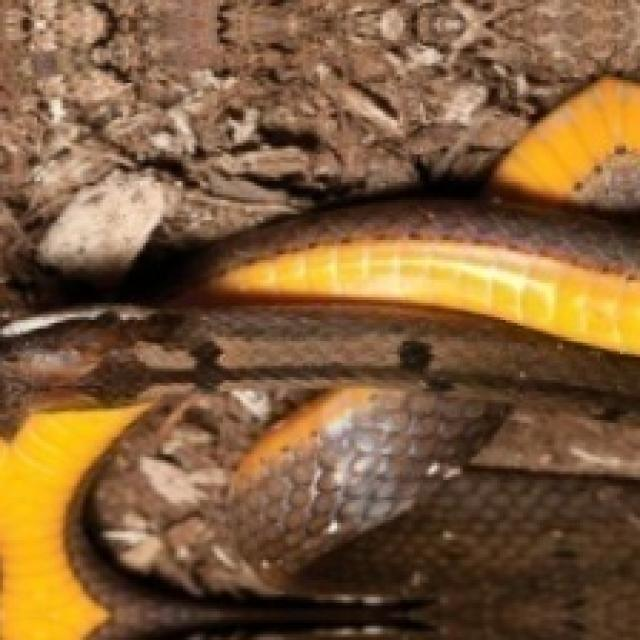philippine stripe-lipped: (0, 77, 637, 637), (120, 454, 331, 600), (383, 383, 509, 509), (414, 423, 457, 449), (186, 560, 234, 583)
